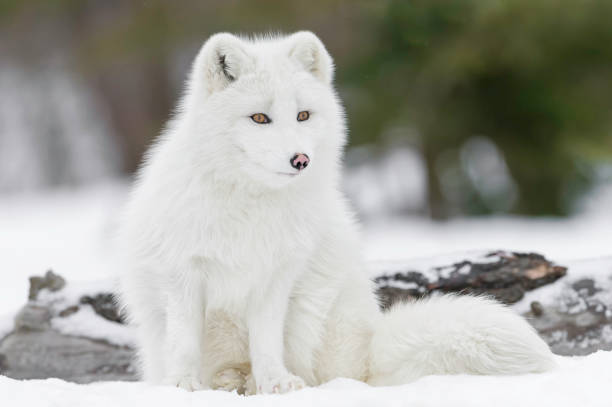arcticfox: (215, 51, 337, 202)
